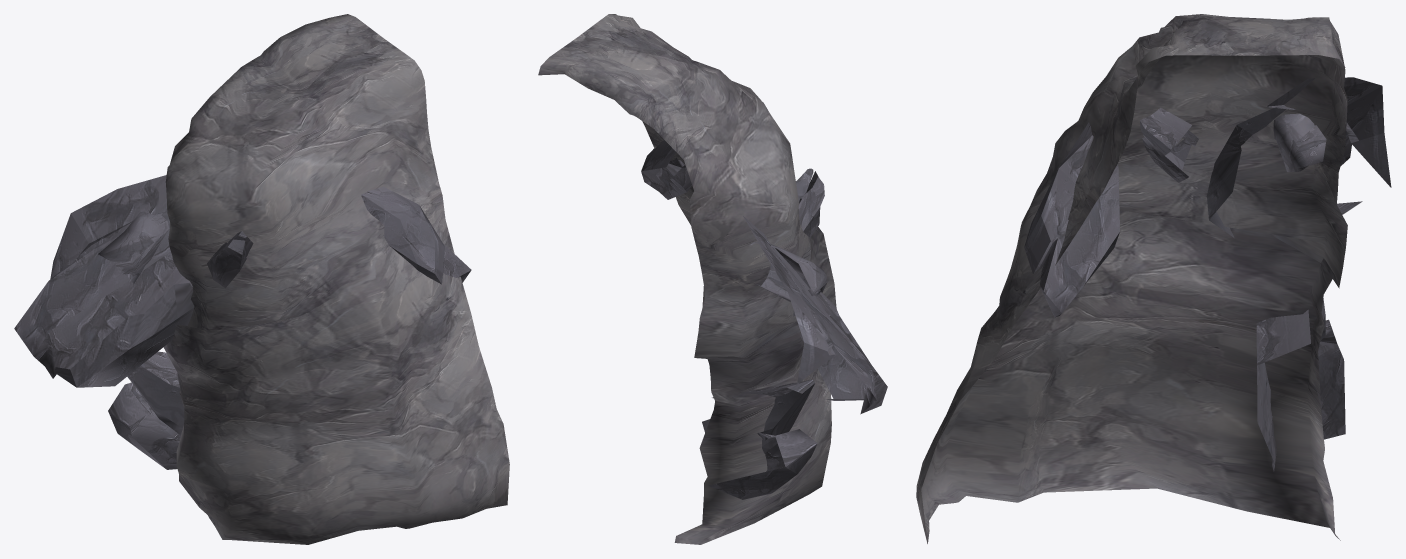
Rendered from GroundDeadStart1.fbx.
3 views of the same model, side by side, from view 1: azimuth 30°, elevation 25°; view 2: azimuth 150°, elevation 25°; view 3: azimuth 270°, elevation 25° (orthographic). The views are drawn at different scales.
Visible parts, largest first — view 1: GroundDeadStart1; view 2: GroundDeadStart1; view 3: GroundDeadStart1.
Part boxes in pixels (x1,y1,x2,y2): GroundDeadStart1: [14, 14, 509, 544]; GroundDeadStart1: [538, 14, 887, 544]; GroundDeadStart1: [916, 14, 1391, 543].
Bounding box in the file's own units: 6.89 × 8.56 × 6.45.
